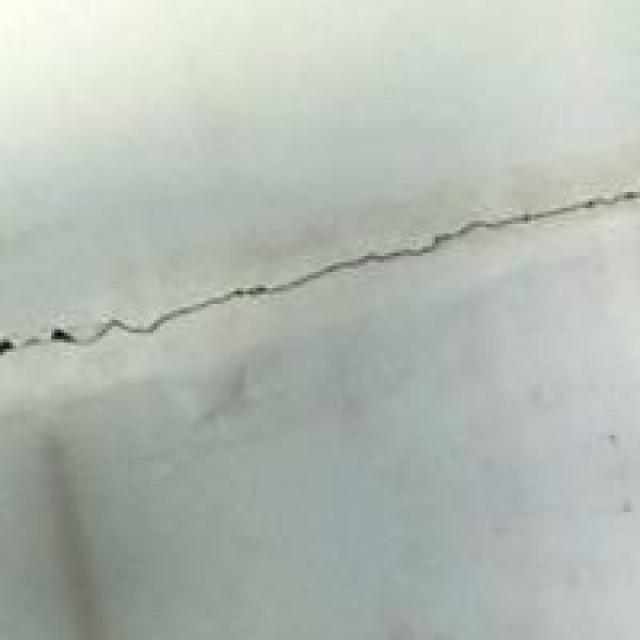crack: (0, 166, 637, 420)
